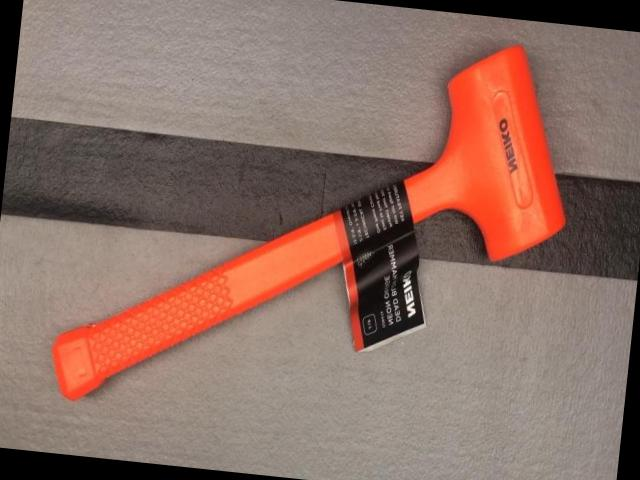hammer: (46, 0, 583, 448)
